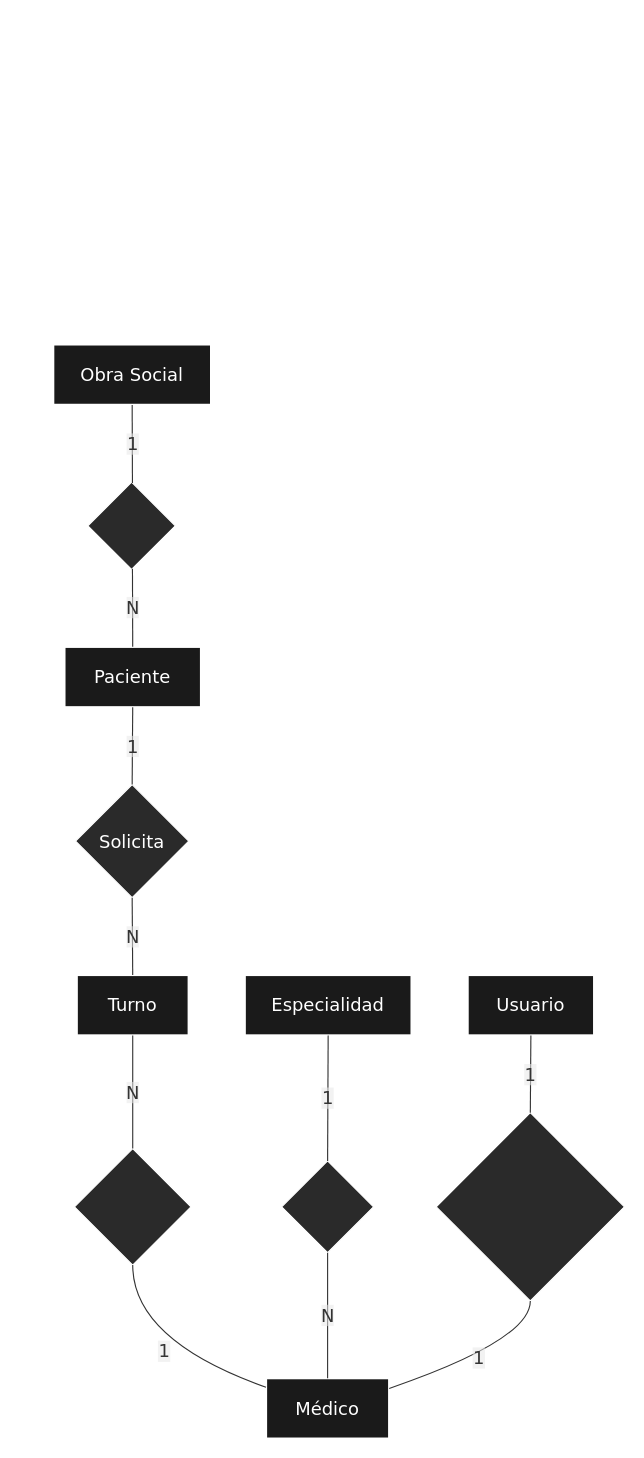
This 644x1458 diagram has some shape labels left out. Each missing label, with the centre of its shape:
Accede como: point 529,1206
Atiende: point 132,1206
Posee: point 327,1206
Tiene: point 131,525
